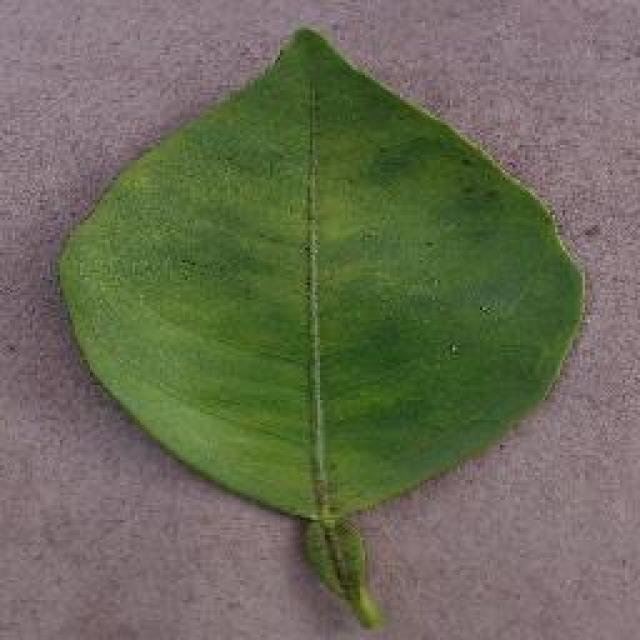Orange_Haunglongbing_Citrus_greening: (133, 108, 538, 492)
